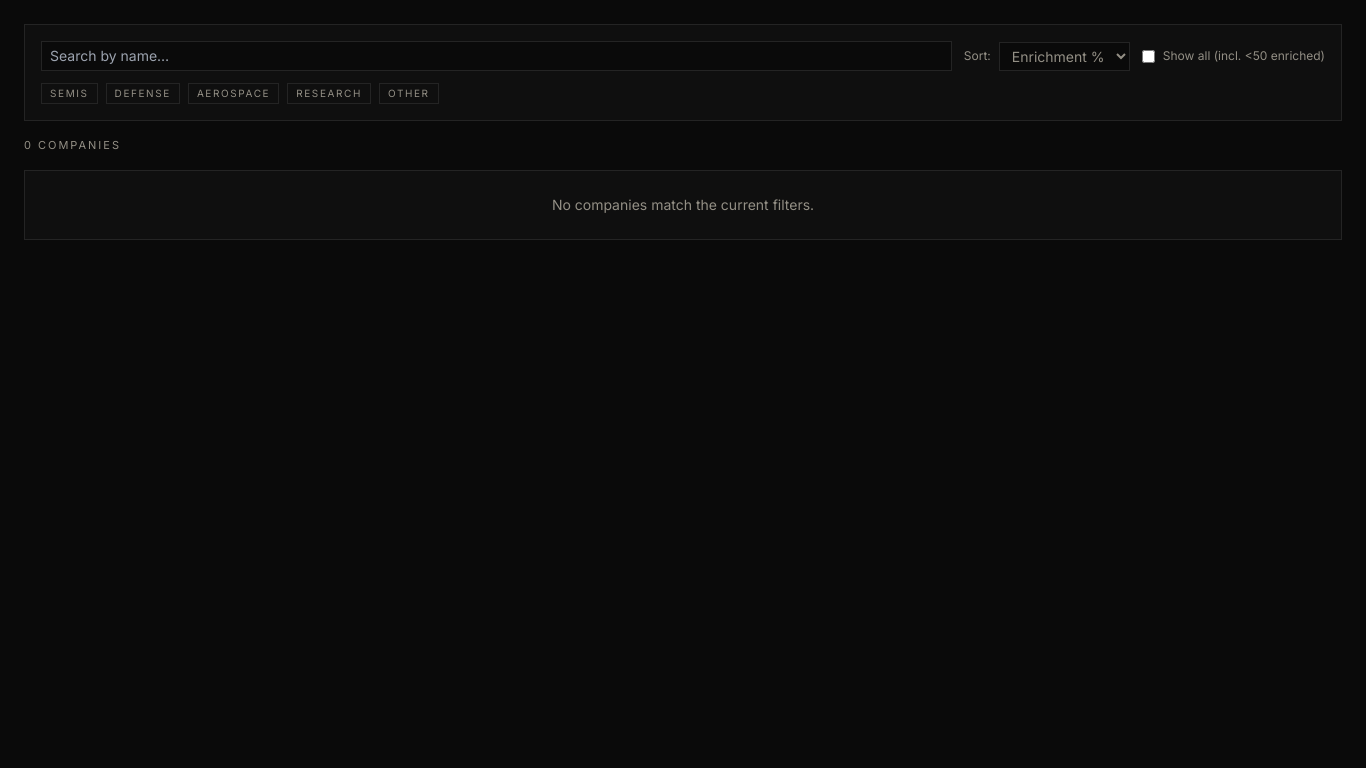
Companies page rendering › renders one card per company after data loads
Expected: the text "No companies match the current filters." is shown, [24,170,1342,240]
// Toggle "show all" → both render.
What coordinates should you click on to do the following:
click the checkbox with test id "companies-show-all"
I would click on:
 (1148, 56)
Its box is [1142,50,1155,62].
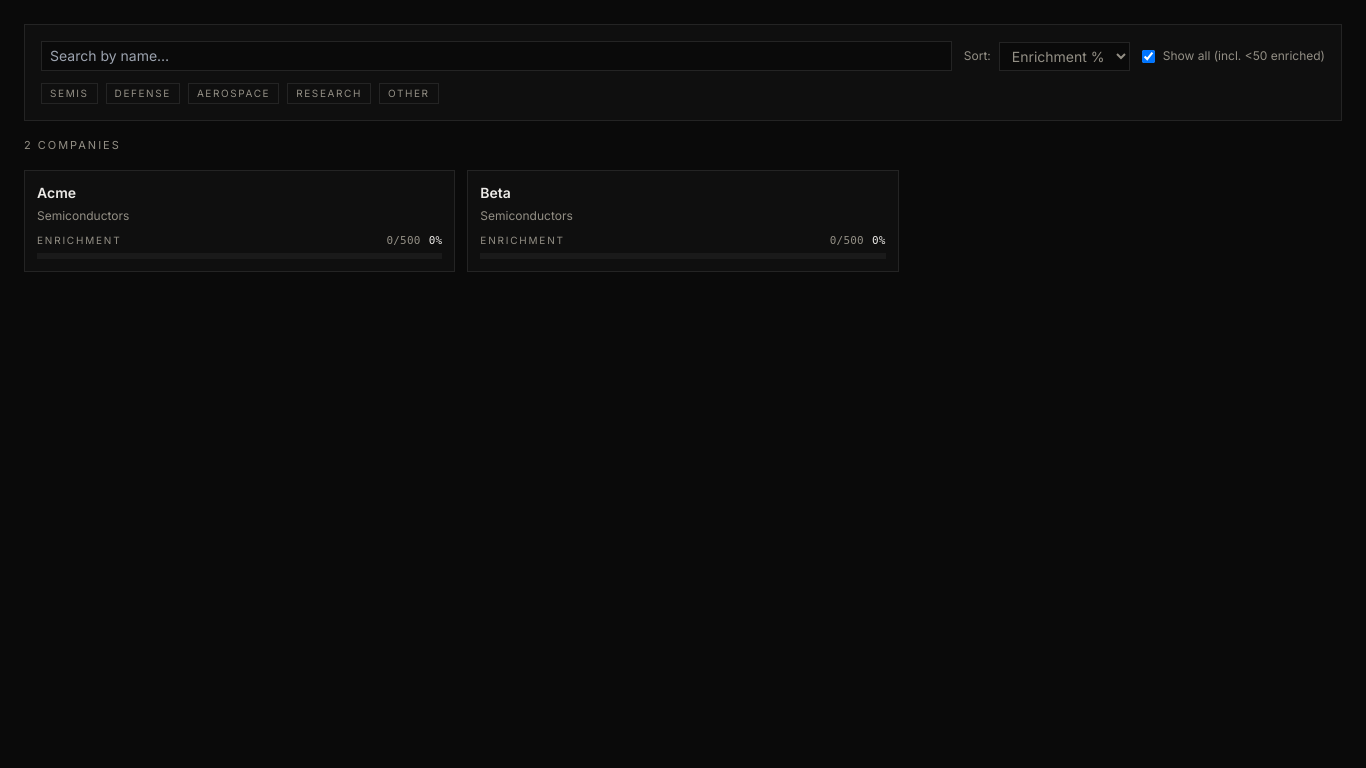
Expected: the number of buttons with test id "company-header-card" is 2, [24,170,455,272]; [467,170,899,272]
